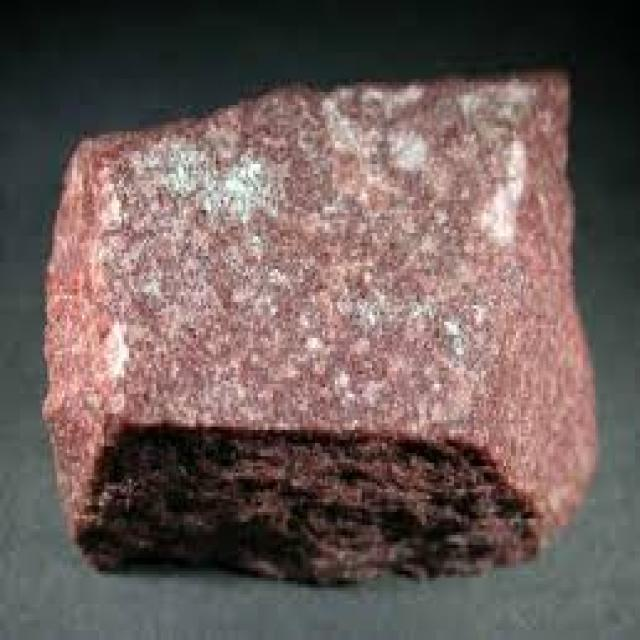Metamorphic: (47, 69, 598, 584)
